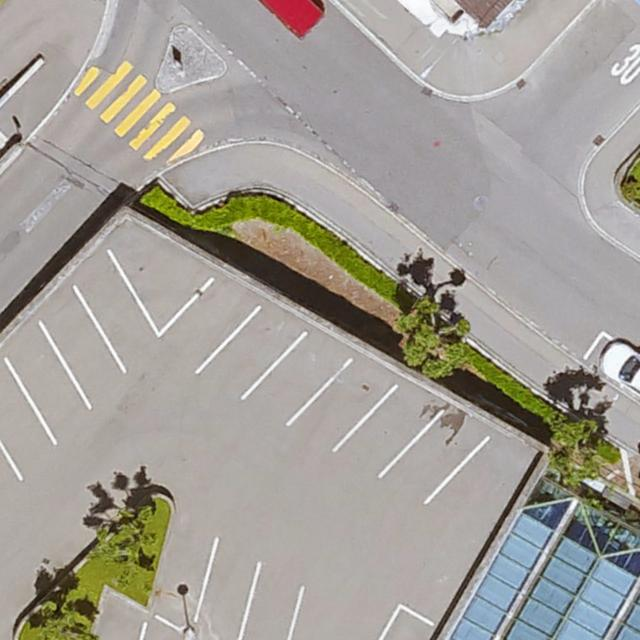tree: (399, 299, 468, 379), (97, 510, 154, 565), (548, 413, 600, 469), (35, 590, 93, 640)
